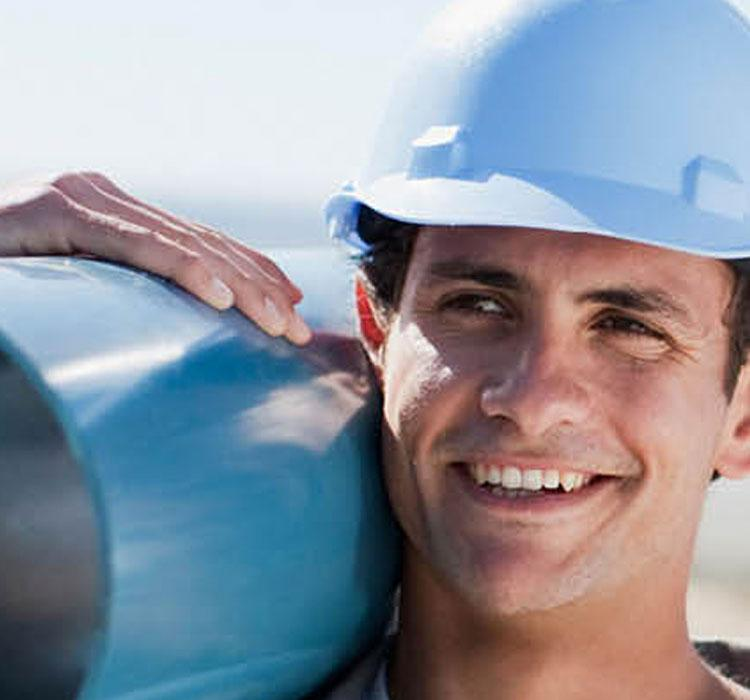helmet: (325, 1, 750, 266)
